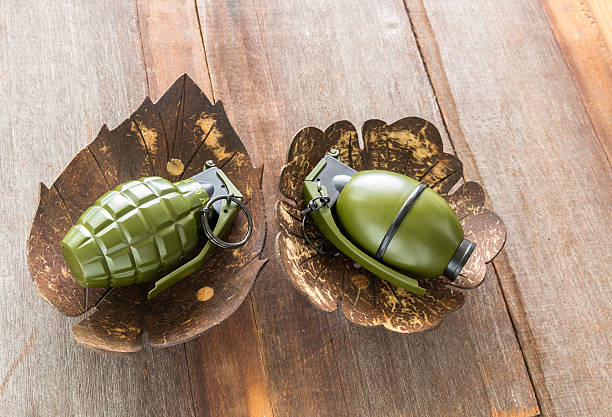e1: (297, 154, 475, 296), (59, 165, 250, 294)
